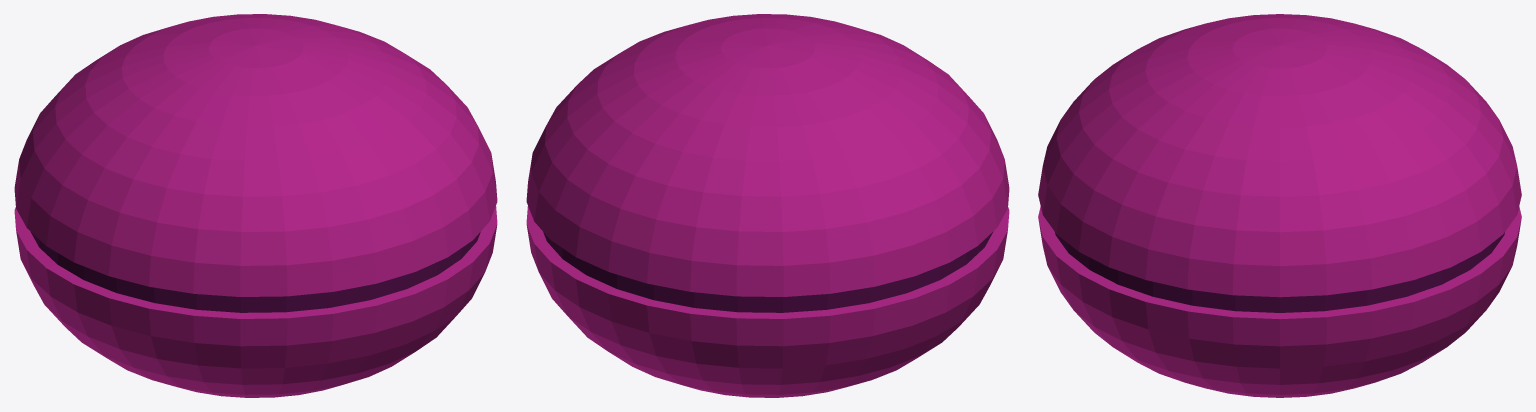
File: Makaron2.fbx
3 renders of one model, left to right at view 1: azimuth 30°, elevation 25°; view 2: azimuth 150°, elevation 25°; view 3: azimuth 270°, elevation 25°, orthographic.
Parts seen in each view (by area): view 1: Sphere, Sphere.001; view 2: Sphere, Sphere.001; view 3: Sphere, Sphere.001.
Part boxes in pixels (x1,y1,x2,y2): Sphere: [14, 14, 497, 318]; Sphere.001: [16, 225, 497, 397]; Sphere: [526, 14, 1009, 318]; Sphere.001: [526, 225, 1007, 397]; Sphere: [1038, 14, 1521, 318]; Sphere.001: [1038, 220, 1521, 397].
Bounding box in the file's own units: 200 × 146 × 200.
